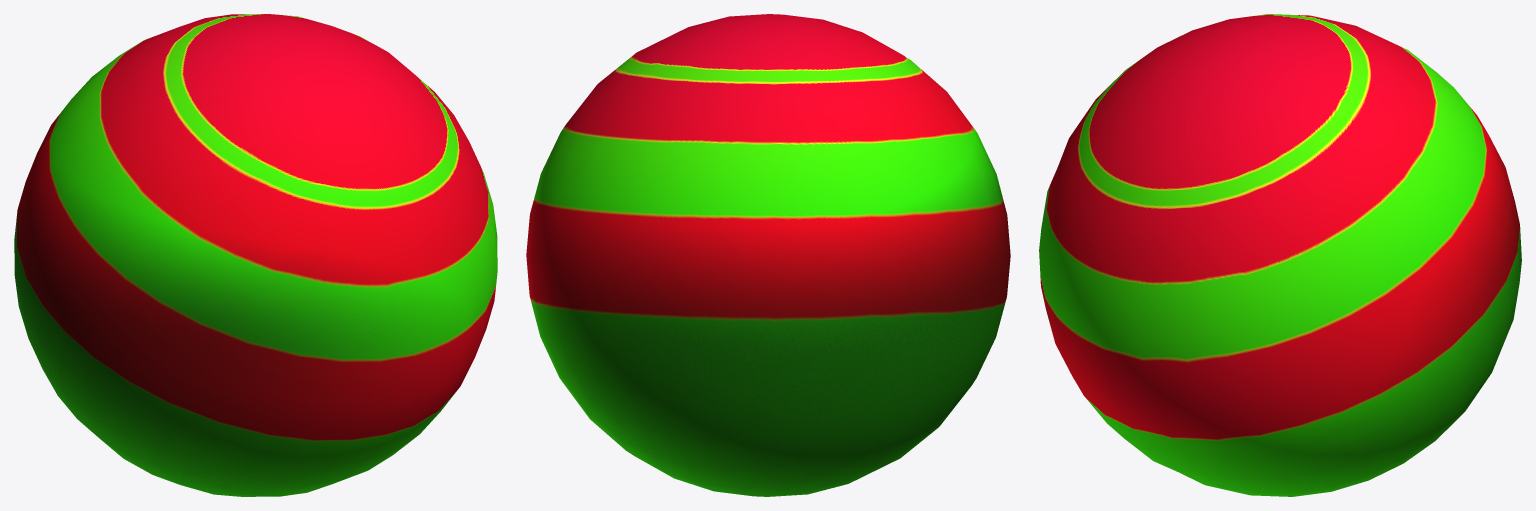
Rendered from planets_test.glb.
3 renders of one model, left to right at view 1: azimuth 30°, elevation 25°; view 2: azimuth 150°, elevation 25°; view 3: azimuth 270°, elevation 25°, orthographic.
Parts seen in each view (by area): view 1: Roundcube; view 2: Roundcube; view 3: Roundcube.
Part boxes in pixels (x1,y1,x2,y2): Roundcube: (14,14,497,496); Roundcube: (526,14,1010,496); Roundcube: (1039,14,1521,496).
Bounding box in the file's own units: 2 × 2 × 2.
Materials: 1 (1 with a texture image).
